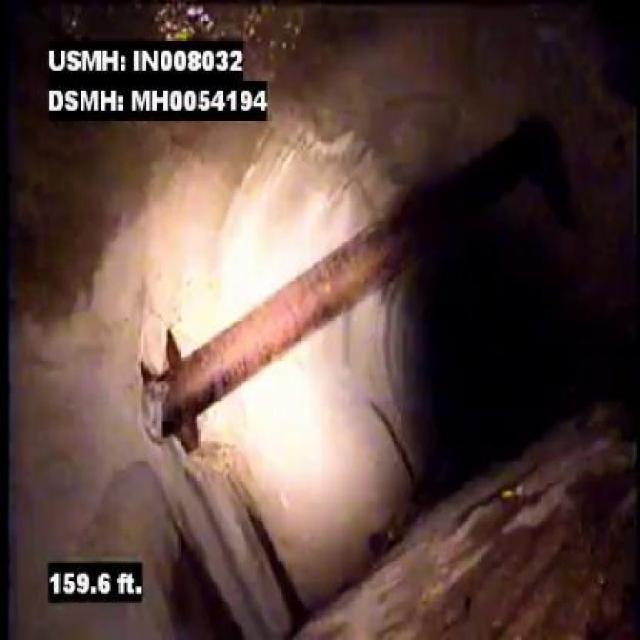Utility intrusion: (140, 174, 458, 443)
